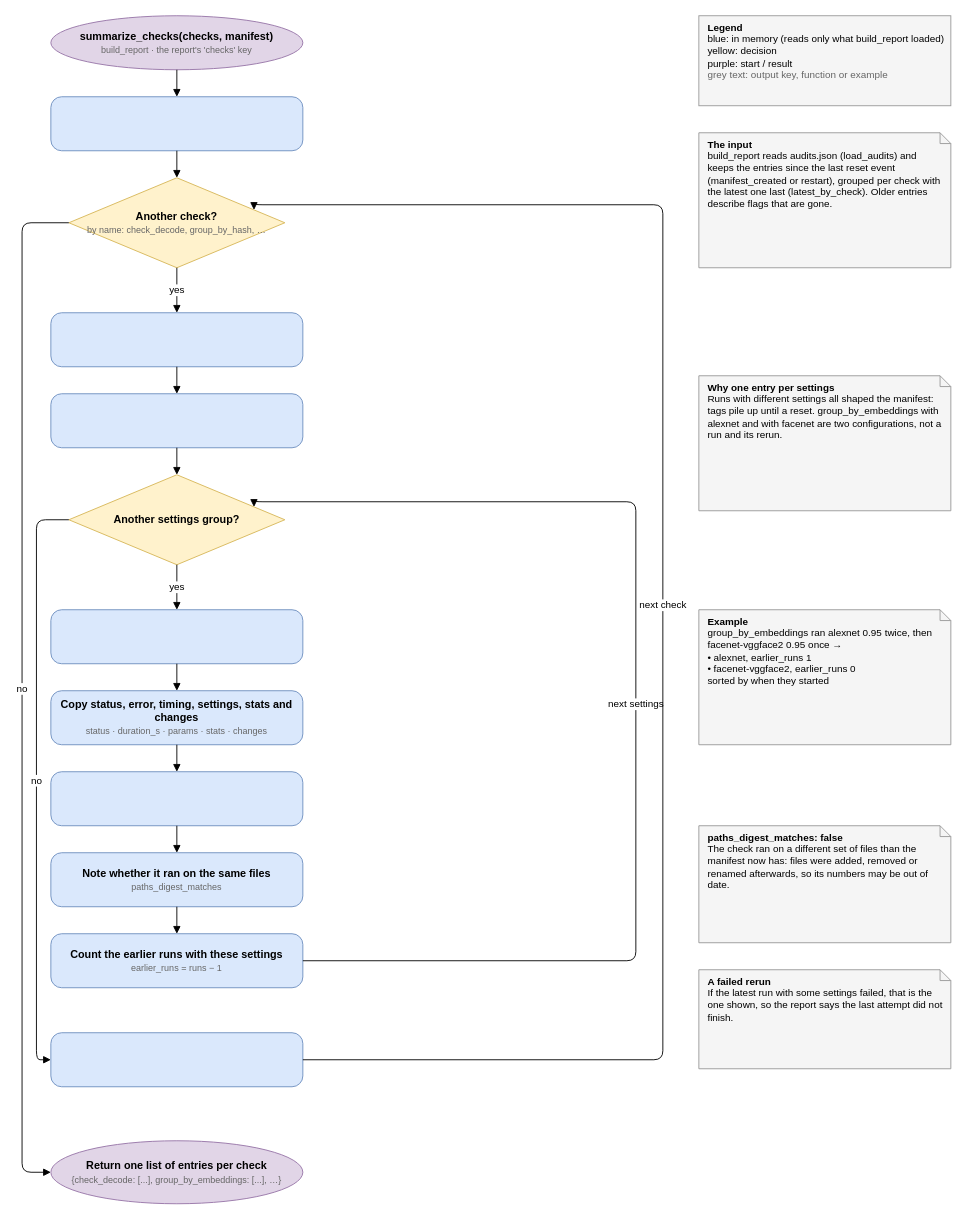
Image size: 967x1220. Some labels were removed from this diagram. The shapes that lost their labels are listed below. From the top down, each one's box as (x1, y1, x2, y2) in pixels, then its label:
(50, 96, 303, 151): Fingerprint the current list of files paths_digest(manifest.path)
(50, 312, 303, 367): Take all its runs since the last reset, oldest first history + latest
(50, 393, 303, 448): Group the runs by their exact settings params as sorted JSON
(50, 609, 303, 664): Take the group's latest run even if it failed
(50, 771, 303, 826): Add the code version it ran on git_commit · git_dirty
(50, 1032, 303, 1087): Sort the check's entries by start time started_at
